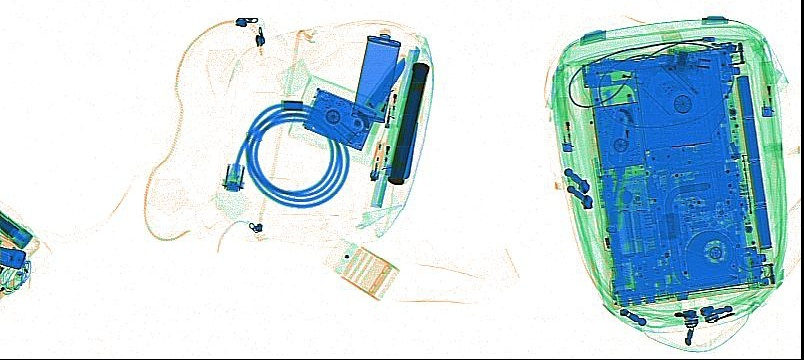knife: (601, 102, 638, 234), (366, 55, 405, 107)
lighter: (557, 96, 573, 152), (759, 60, 774, 116), (383, 82, 399, 128), (369, 140, 386, 182), (379, 131, 395, 175)
zippooil: (351, 29, 401, 123)
